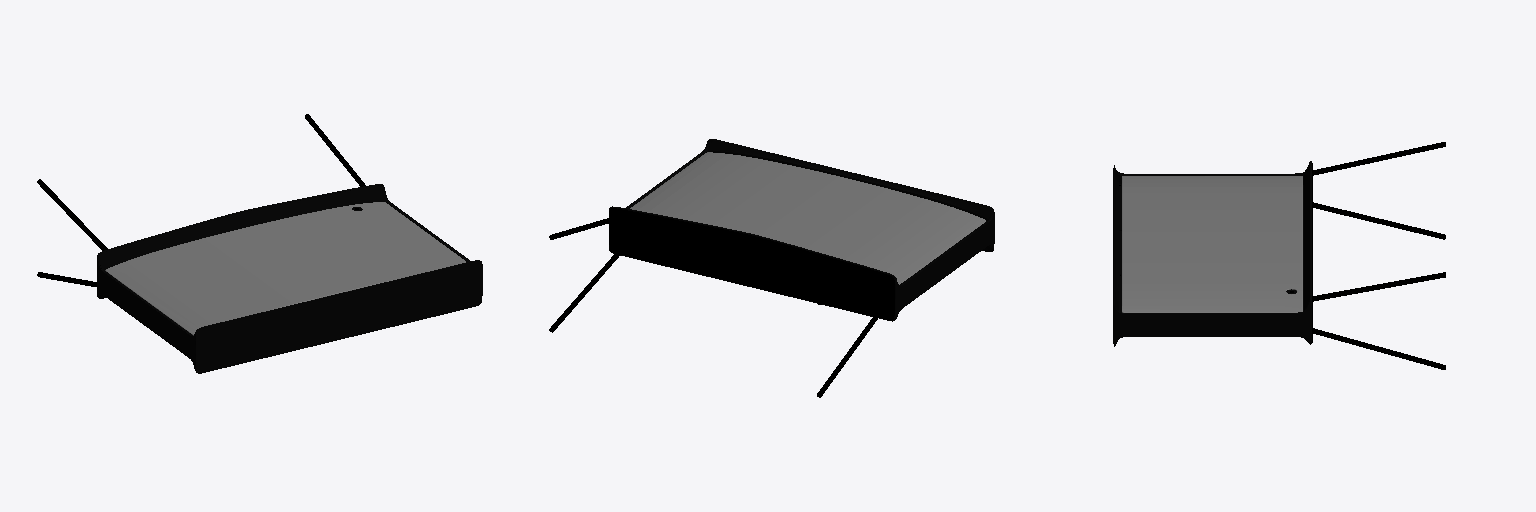
File: Samsung_Serif_TV_40_mat(3).obj
3 renders of one model, left to right at view 1: azimuth 30°, elevation 25°; view 2: azimuth 150°, elevation 25°; view 3: azimuth 270°, elevation 25°, orthographic.
Visible parts, largest first — view 1: Samsung_Serif_TV_40_mat3; view 2: Samsung_Serif_TV_40_mat3; view 3: Samsung_Serif_TV_40_mat3.
Part boxes in pixels (x1,y1,x2,y2): Samsung_Serif_TV_40_mat3: (37, 114, 482, 373); Samsung_Serif_TV_40_mat3: (549, 139, 994, 397); Samsung_Serif_TV_40_mat3: (1113, 142, 1445, 369).
Bounding box in the file's own units: 93.09 × 30.22 × 93.38.